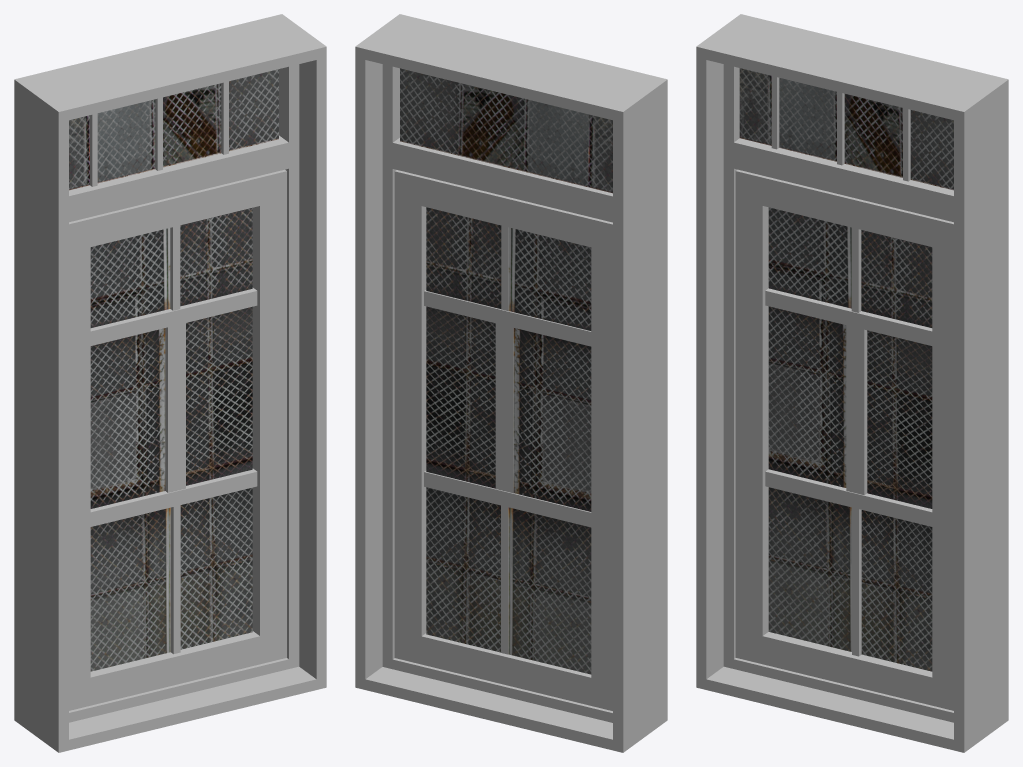
Rendered from Window_industrial_005.fbx.
3 views of the same model, side by side, from view 1: azimuth 30°, elevation 25°; view 2: azimuth 150°, elevation 25°; view 3: azimuth 330°, elevation 25° (orthographic).
Parts seen in each view (by area): view 1: Rama, Glass; view 2: Rama, Glass; view 3: Rama, Glass.
Part boxes in pixels (box(x1,y1,x2,y2)): Rama: box(14, 14, 326, 752); Glass: box(69, 69, 278, 671); Rama: box(355, 14, 667, 752); Glass: box(400, 68, 612, 674); Rama: box(696, 14, 1008, 752); Glass: box(739, 68, 953, 671).
Size of the model in its own units: 76.26 by 174 by 22.
